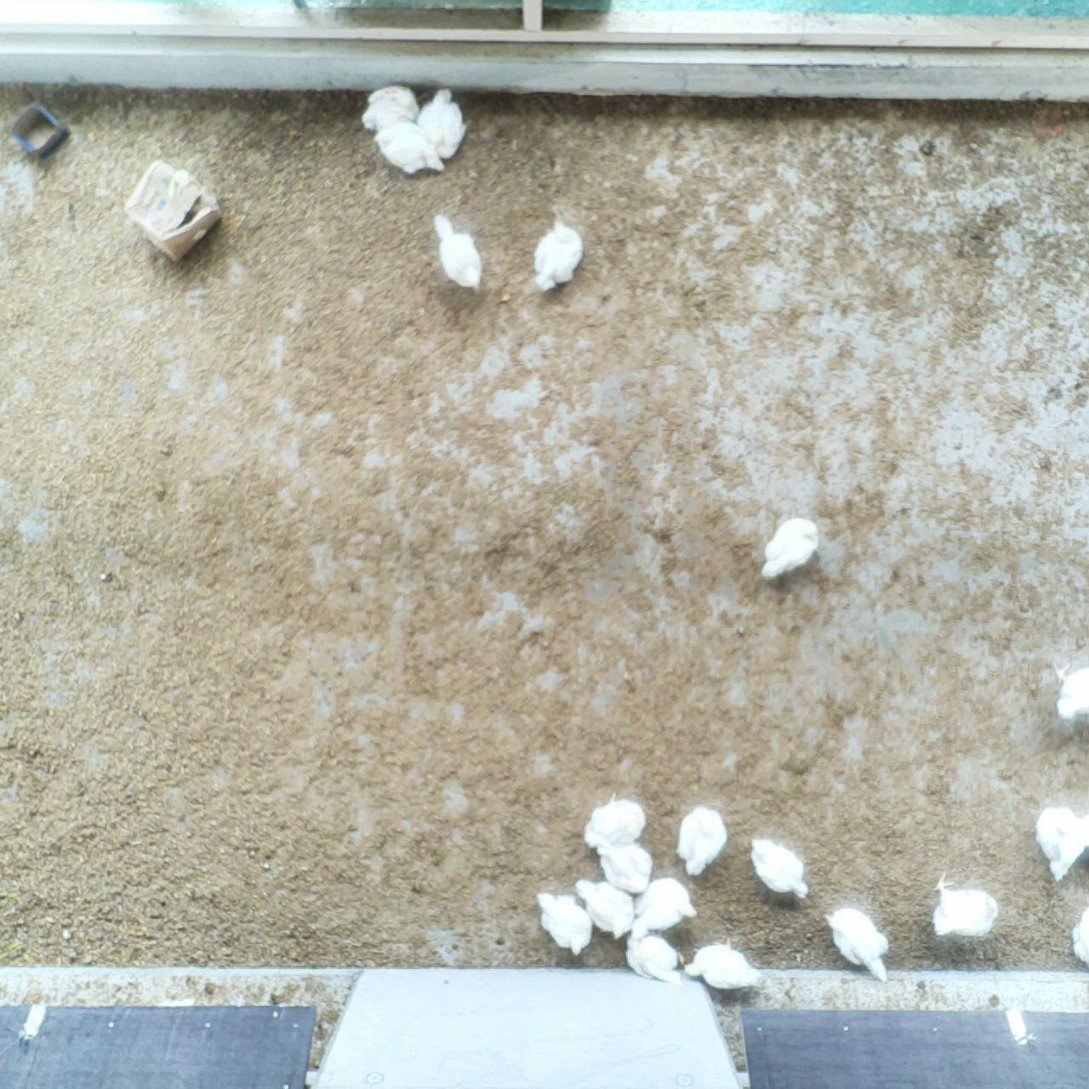chicken: (822, 902, 893, 981), (928, 868, 998, 942), (428, 209, 487, 294), (628, 874, 700, 941), (533, 887, 597, 958), (526, 217, 586, 292), (680, 937, 760, 993), (758, 516, 824, 582), (744, 833, 809, 899), (573, 875, 639, 939), (372, 121, 447, 177), (1035, 804, 1089, 880), (673, 806, 729, 879), (582, 792, 649, 851), (418, 86, 466, 167), (621, 930, 686, 988), (596, 835, 654, 896), (364, 80, 421, 138), (1049, 657, 1089, 722), (1066, 898, 1089, 969)
